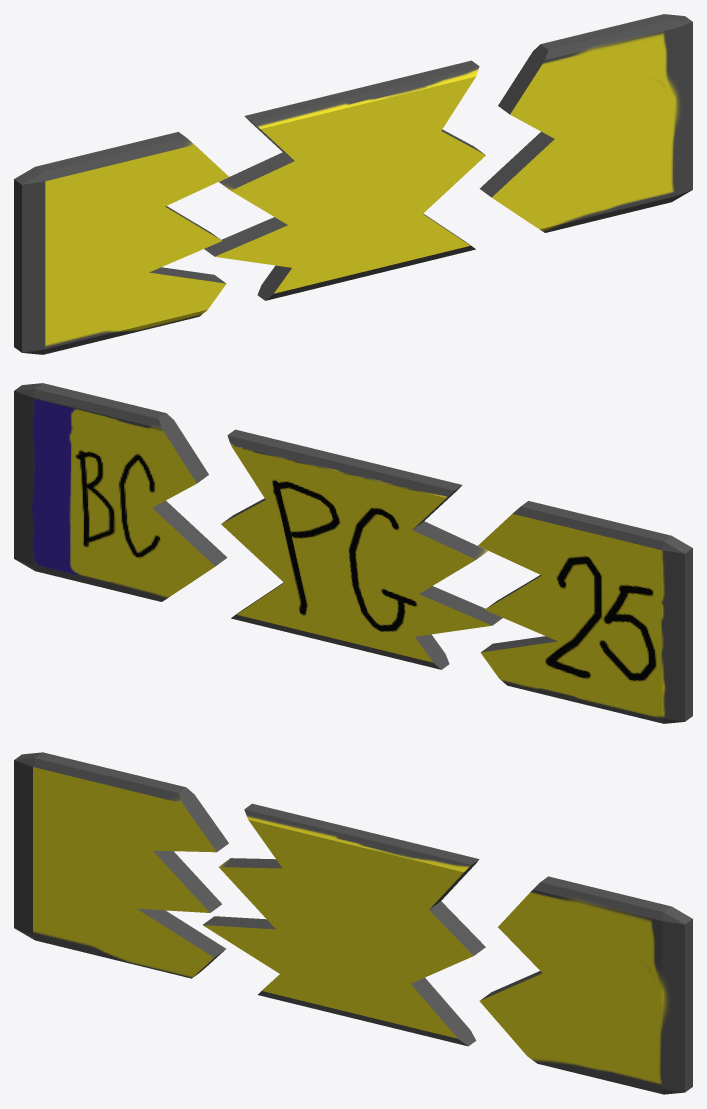
File: kenteken.fbx
The picture shows the model from 3 angles, top to bottom: view 1: azimuth 30°, elevation 25°; view 2: azimuth 150°, elevation 25°; view 3: azimuth 330°, elevation 25°; orthographic projection.
Visible parts, largest first — view 1: 2, 1, 3; view 2: 2, 1, 3; view 3: 2, 1, 3.
Part boxes in pixels (x1,y1,x2,y2): 2: [204, 60, 485, 300]; 1: [14, 132, 228, 354]; 3: [479, 14, 692, 232]; 2: [221, 429, 502, 669]; 1: [478, 501, 692, 723]; 3: [14, 383, 227, 601]; 2: [203, 803, 485, 1046]; 1: [14, 752, 228, 978]; 3: [479, 876, 692, 1094].
Bounding box in the file's own units: 148 × 38.5 × 4.63.
